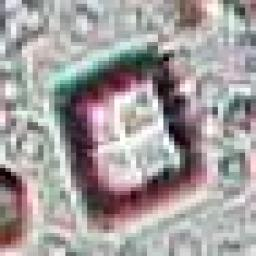crystals: (53, 48, 200, 228)
